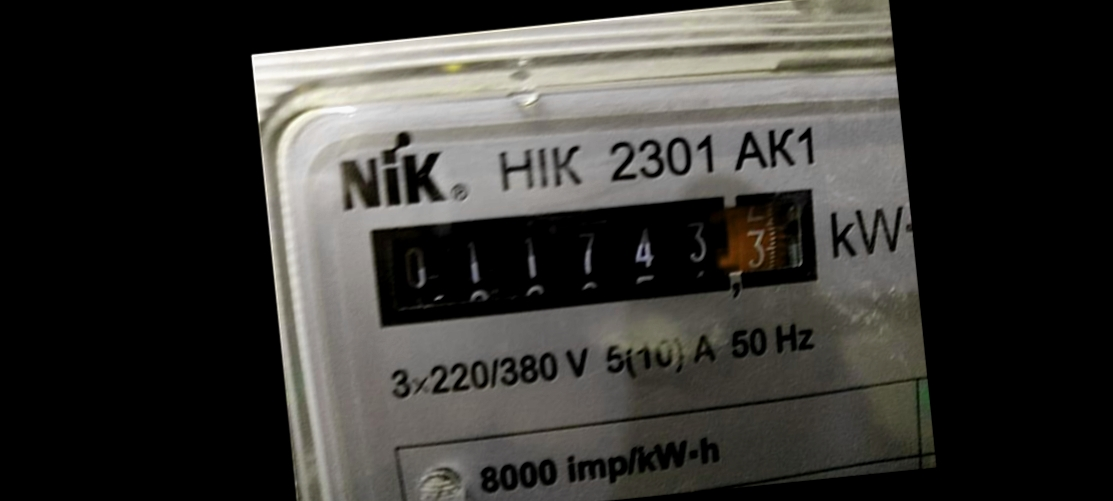0: (399, 242, 433, 291)
1: (519, 231, 544, 281), (464, 237, 486, 287)
3: (682, 216, 715, 266), (743, 224, 771, 271)
4: (628, 221, 661, 271)
7: (574, 227, 603, 278)
screen: (354, 174, 830, 338)
